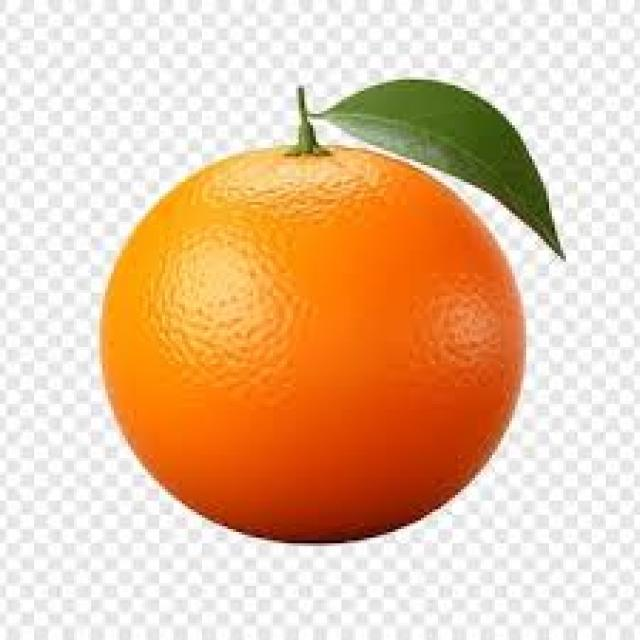non-mango: (98, 137, 527, 544)
